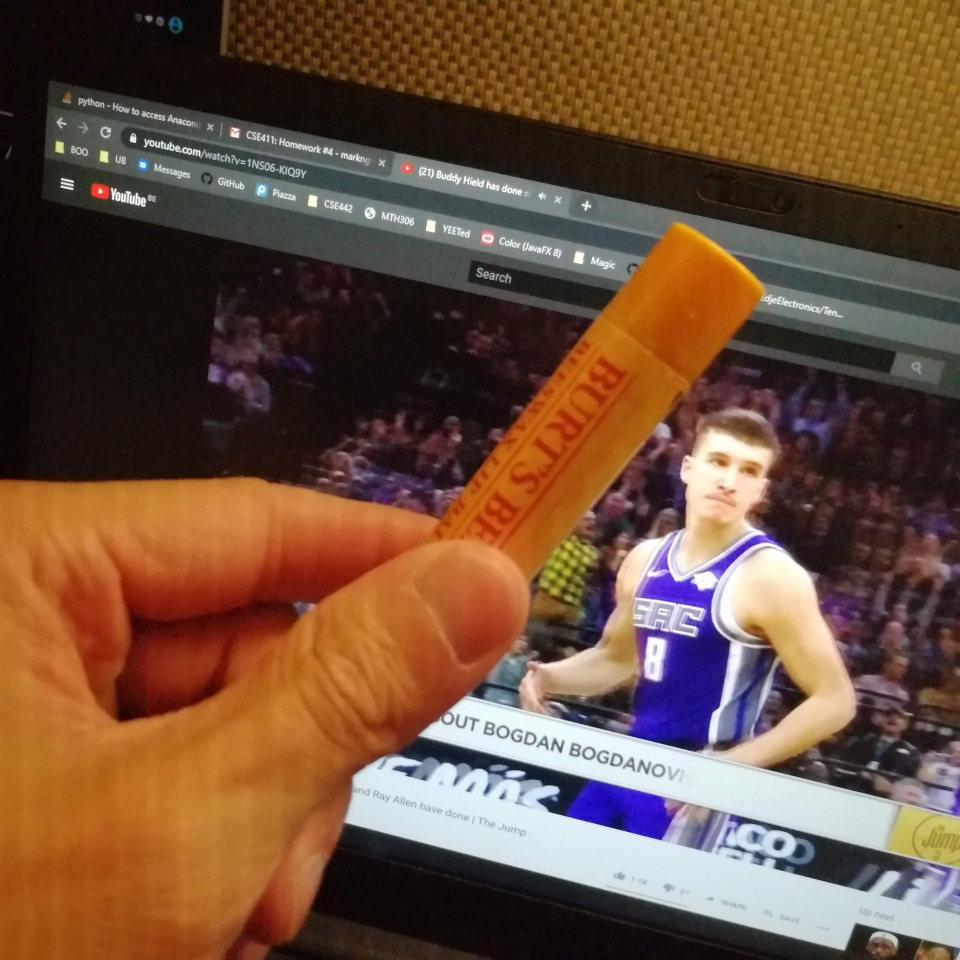chapstick: (426, 214, 773, 581)
